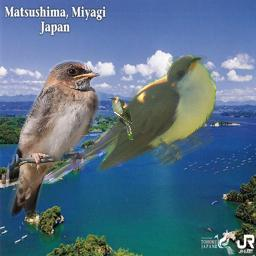Cuckoo: (35, 55, 216, 184), (106, 96, 134, 142)
Swallow: (0, 59, 101, 218)
